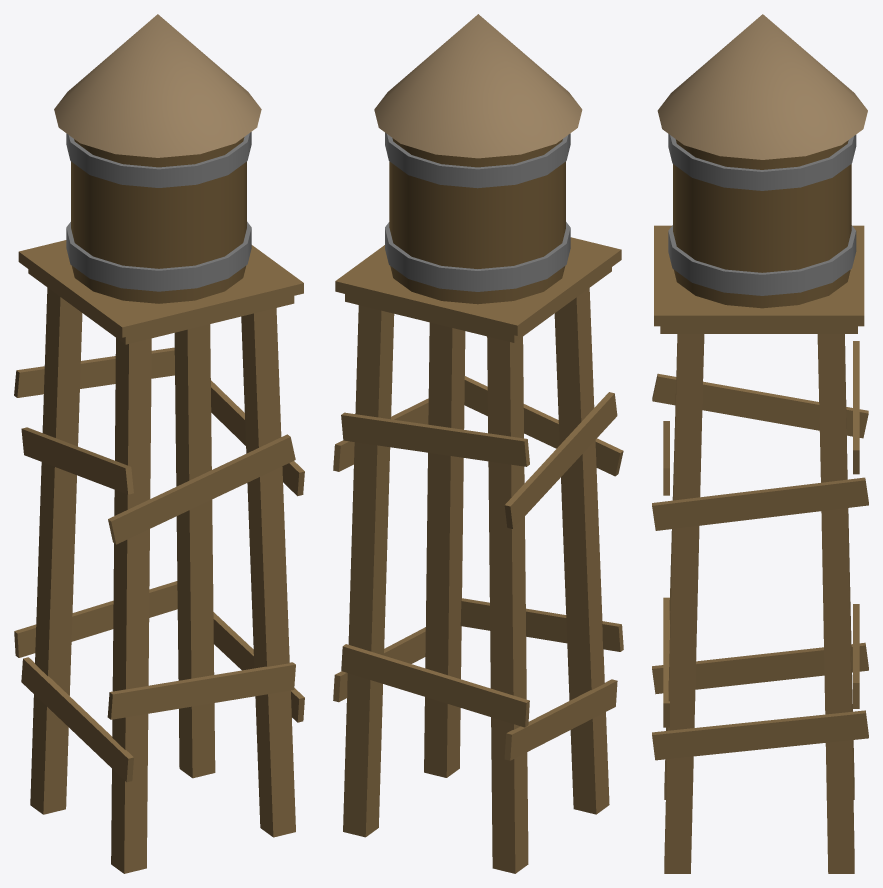
File: Silo.fbx
3 renders of one model, left to right at view 1: azimuth 30°, elevation 25°; view 2: azimuth 150°, elevation 25°; view 3: azimuth 270°, elevation 25°, orthographic.
Visible parts, largest first — view 1: Silo; view 2: Silo; view 3: Silo.
Part boxes in pixels (bbox=[...]): Silo: bbox=[14, 14, 304, 873]; Silo: bbox=[333, 14, 623, 873]; Silo: bbox=[652, 14, 868, 873].
Bounding box in the file's own units: 2.63 × 10.71 × 2.58.
